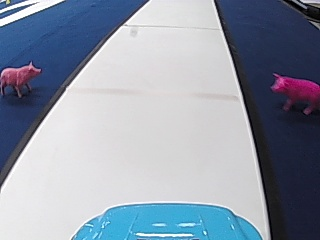pig: (268, 70, 318, 114), (0, 58, 42, 96)
